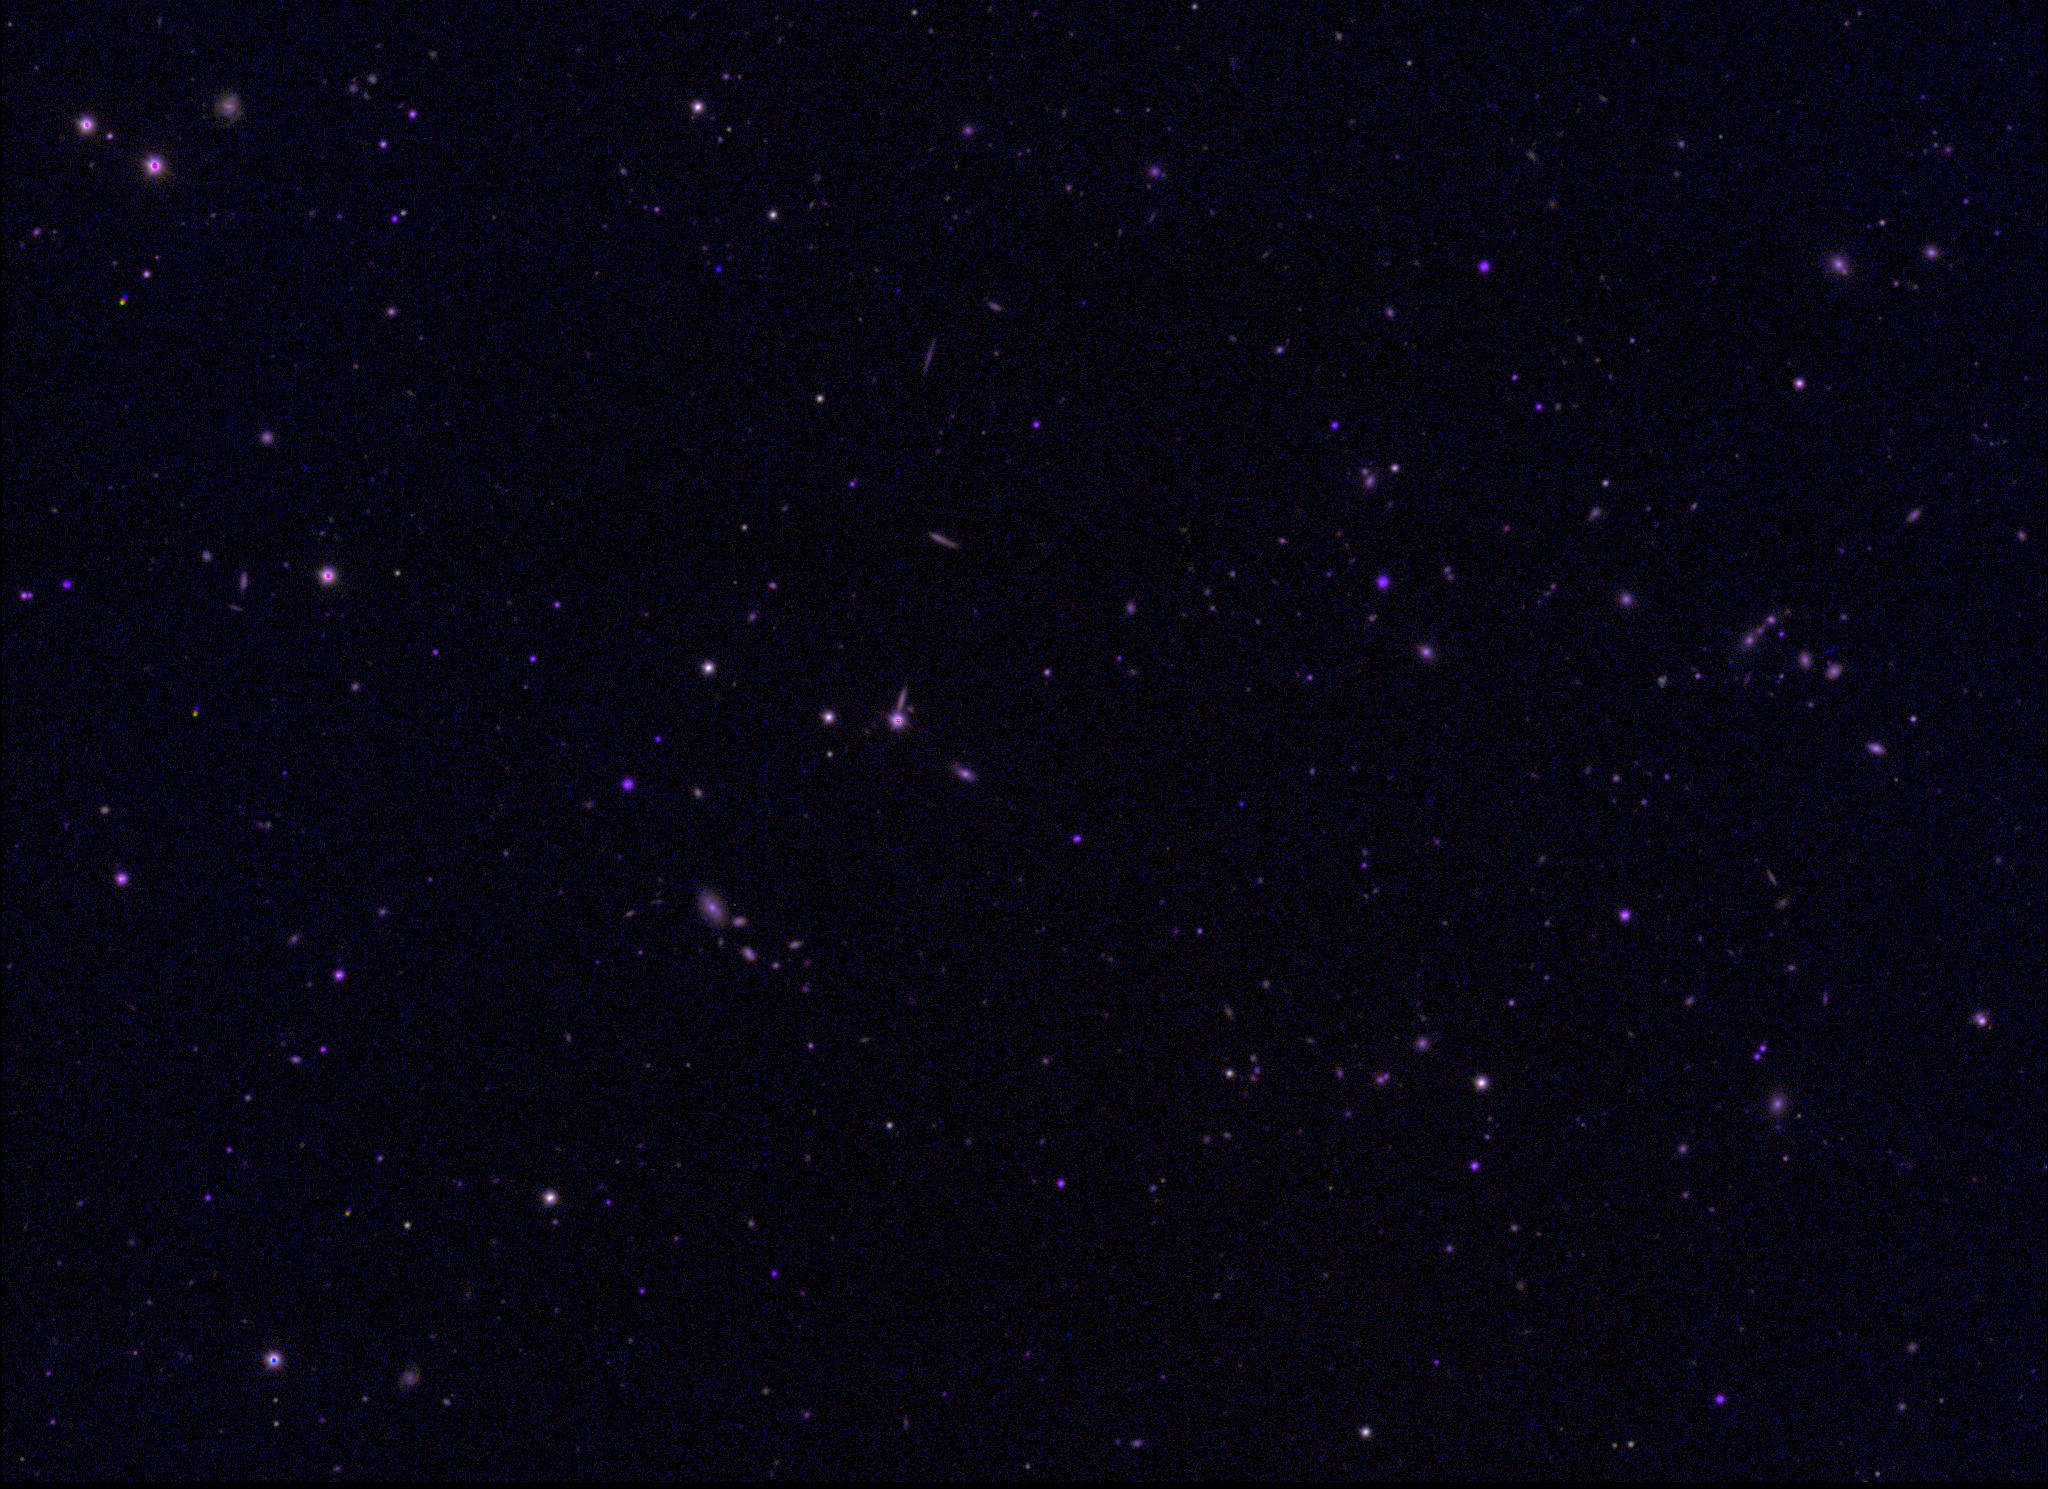L: (711, 266, 723, 280)
